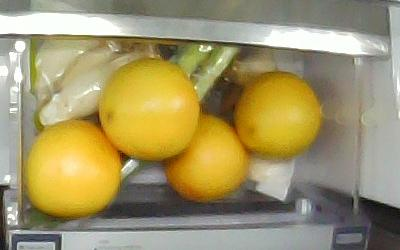grapefruit: (97, 56, 200, 161), (24, 117, 122, 217), (231, 69, 322, 158), (161, 111, 250, 201)
